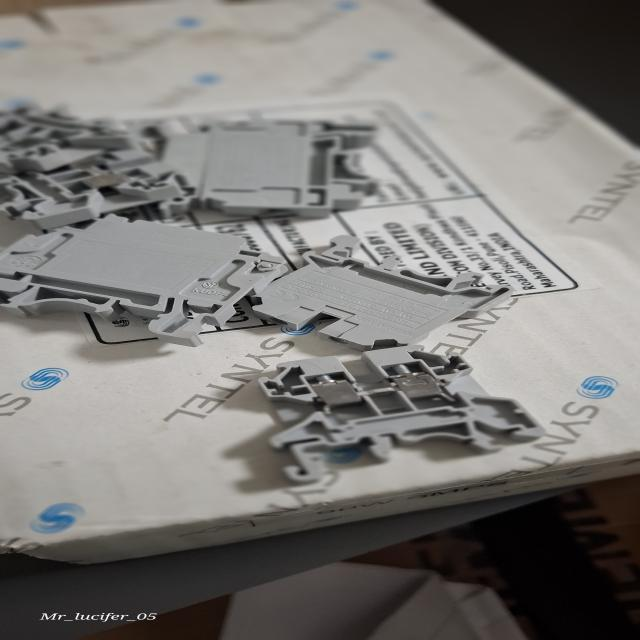Inverted: (205, 232, 495, 346)
Pass: (230, 332, 558, 480)
